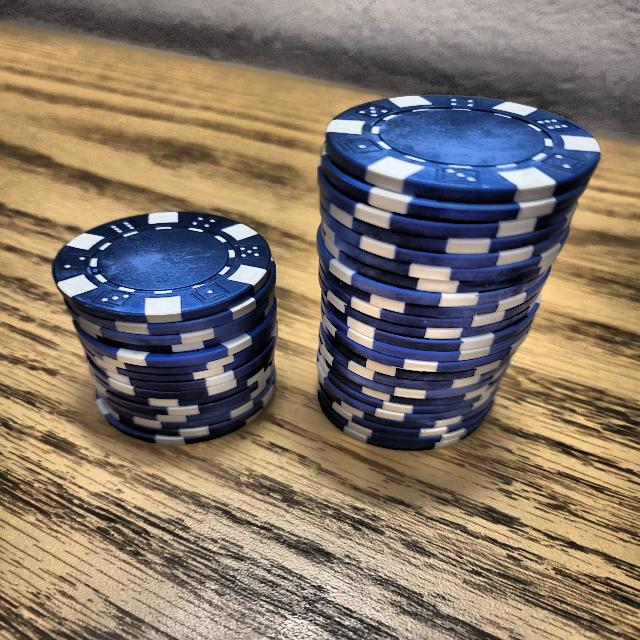Chip: (281, 49, 616, 492), (41, 203, 298, 455)
